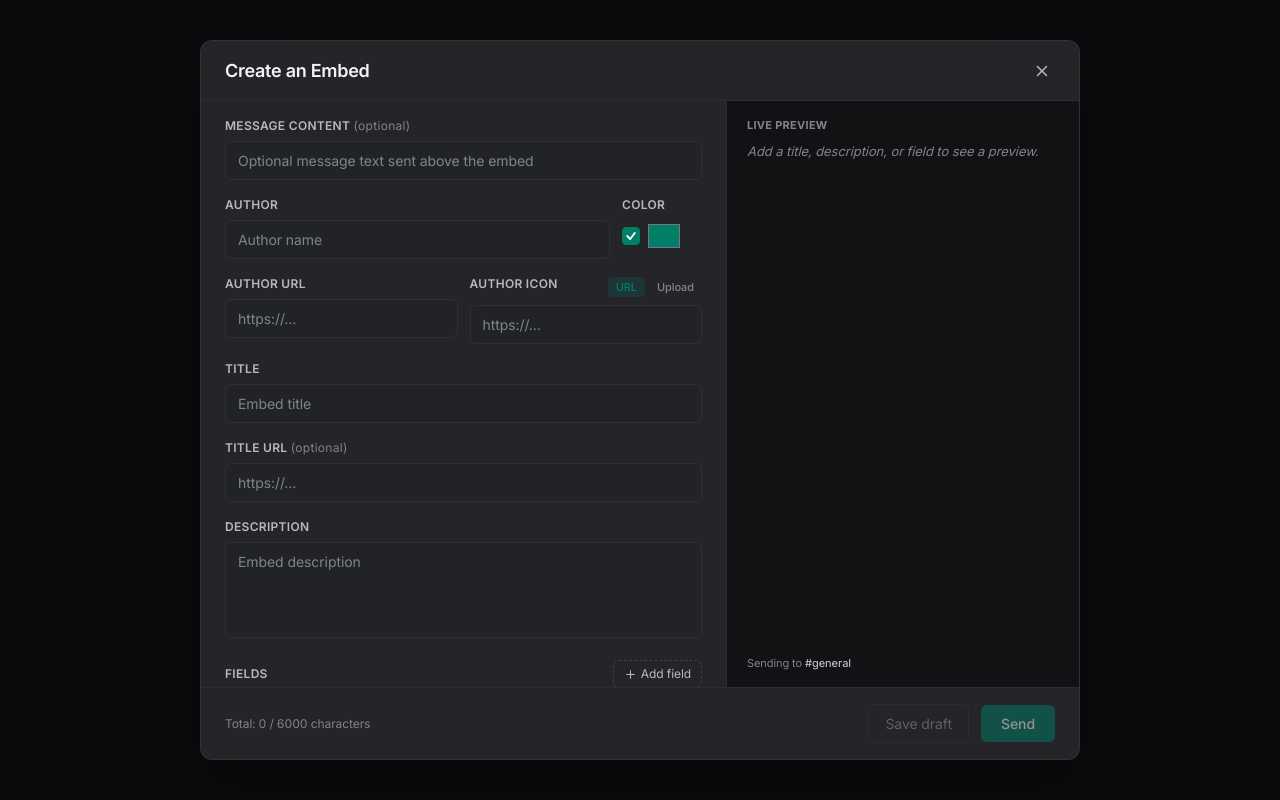
Test: <EmbedModal> create mode › disables Send until the embed is non-empty
Expected: the button "Send" is disabled, [981, 705, 1055, 742]
Type "Hello" into the field with placeholder "Embed title".
click(464, 404); type("Hello")  # box [225, 384, 702, 423]
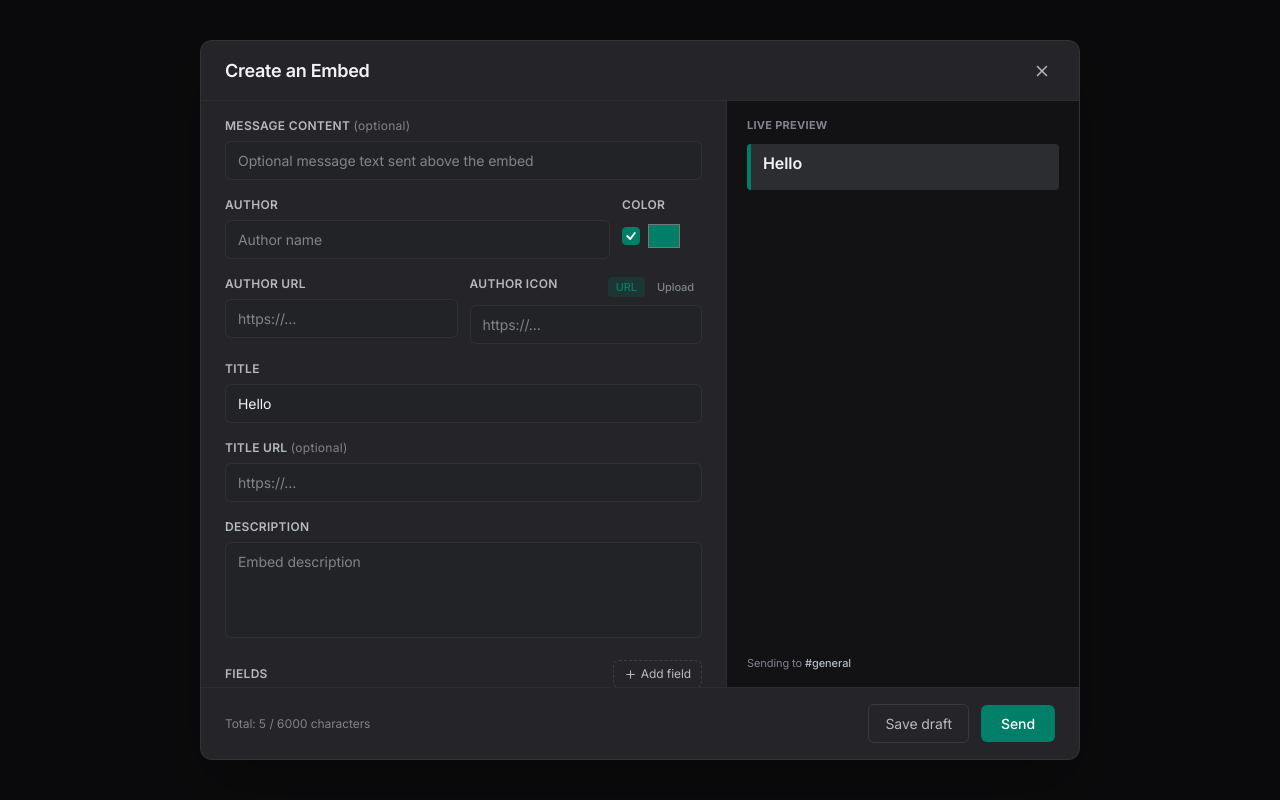
Now the button "Send" is enabled, box [981, 705, 1055, 742]
